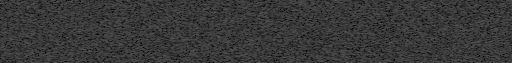wv_am: (398, 0, 402, 43), (398, 44, 402, 60)
wv_cw: (21, 0, 26, 63)
wv_lsb: (63, 15, 69, 50), (63, 1, 68, 14), (63, 51, 68, 61)
wv_usb: (58, 1, 64, 63), (349, 1, 355, 63), (62, 1, 68, 54), (63, 55, 68, 63)
wv_wbfm: (446, 0, 455, 63)
